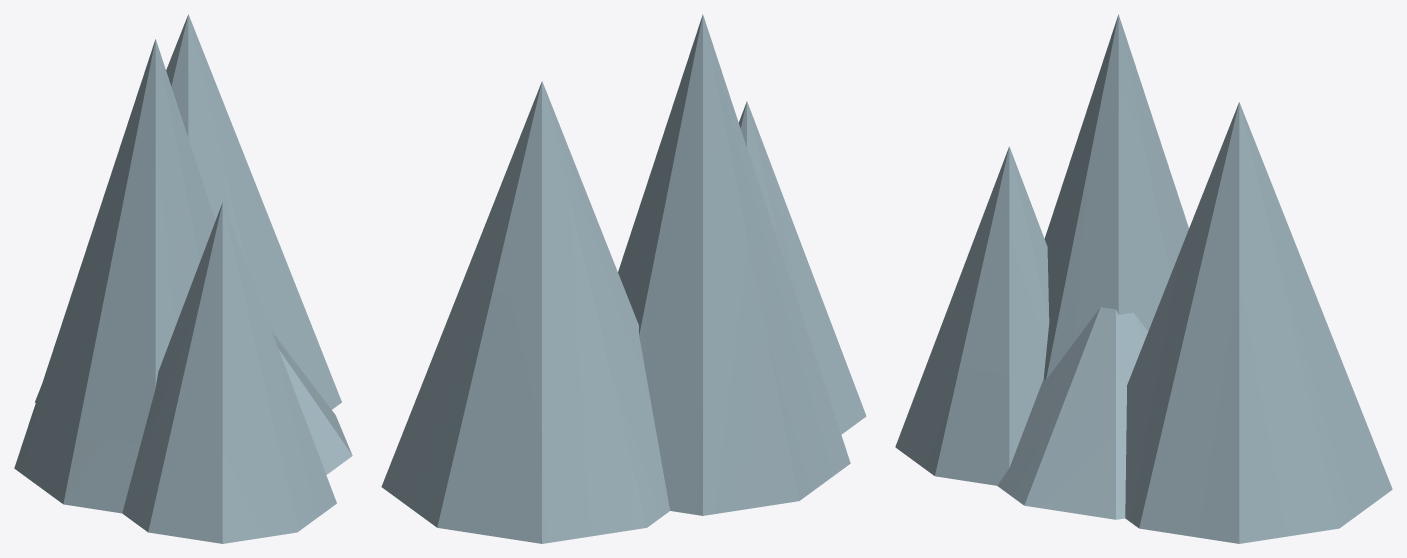
File: ice_spire-05.glb
3 renders of one model, left to right at view 1: azimuth 30°, elevation 25°; view 2: azimuth 150°, elevation 25°; view 3: azimuth 270°, elevation 25°, orthographic. The views are drawn at different scales.
Visible parts, largest first — view 1: world; view 2: world; view 3: world.
Part boxes in pixels (left/top/right/bottom): world: left=14, top=14, right=352, bottom=543; world: left=381, top=14, right=866, bottom=543; world: left=895, top=14, right=1392, bottom=543.
Bounding box in the file's own units: 1.14 × 1.32 × 1.42.
